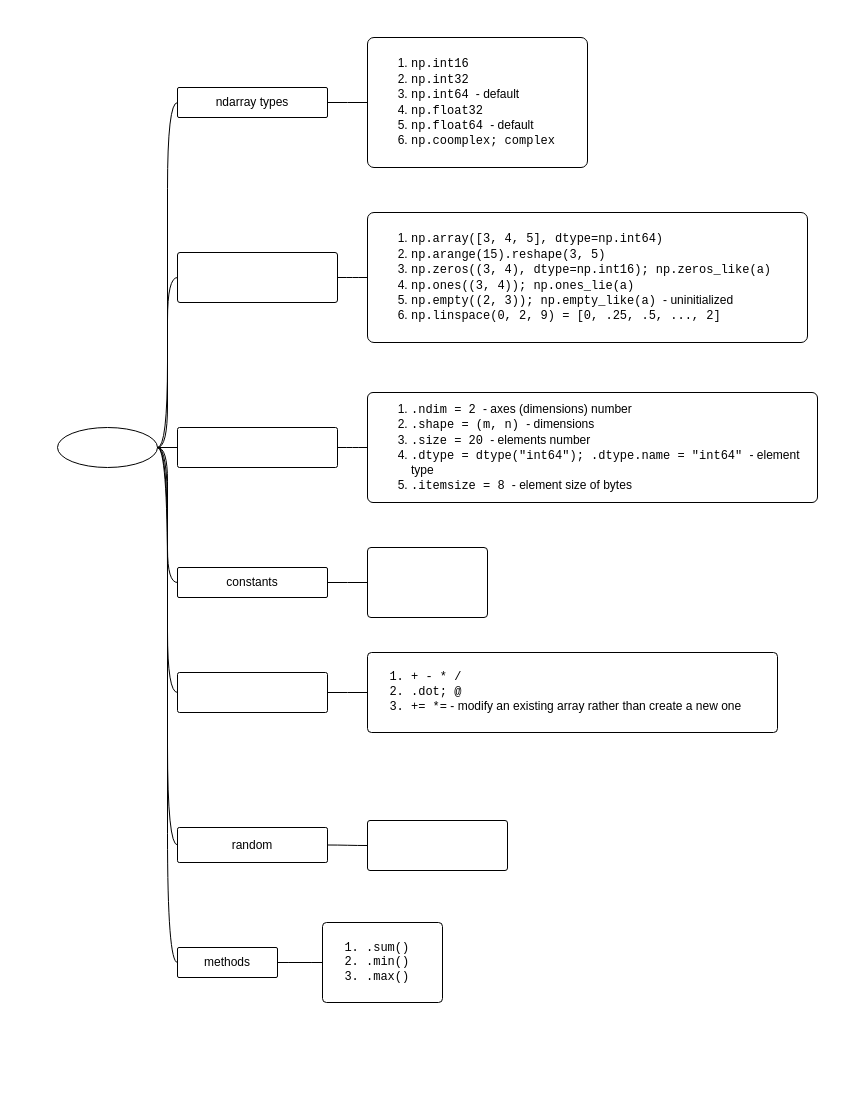
This 844x1104 diagram has some shape labels left out. Here are the shapes that lost their labels. From the top down, the centre of each, then its label:
At point (257, 277): "ndarray object initiation".
At point (107, 447): "numpy".
At point (257, 447): "ndarray object attributes".
At point (427, 582): "np.pi np.e".
At point (252, 692): "operators".
